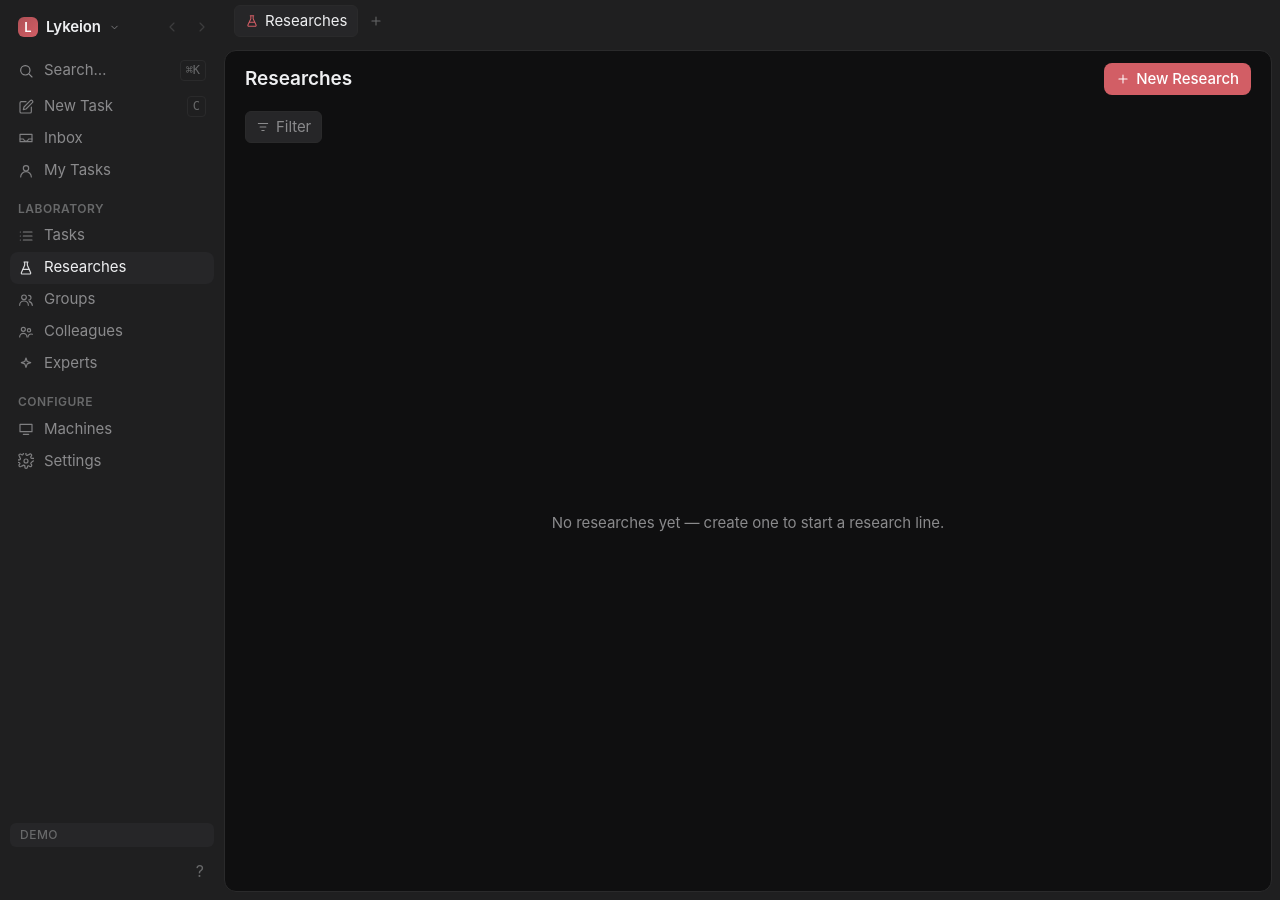
Scenario: account menu Settings navigates to the settings screen
The width and height of the screenshot is (1280, 900).
Click the button with aria-label "Workspace": [69, 27] box [10,10,128,44]
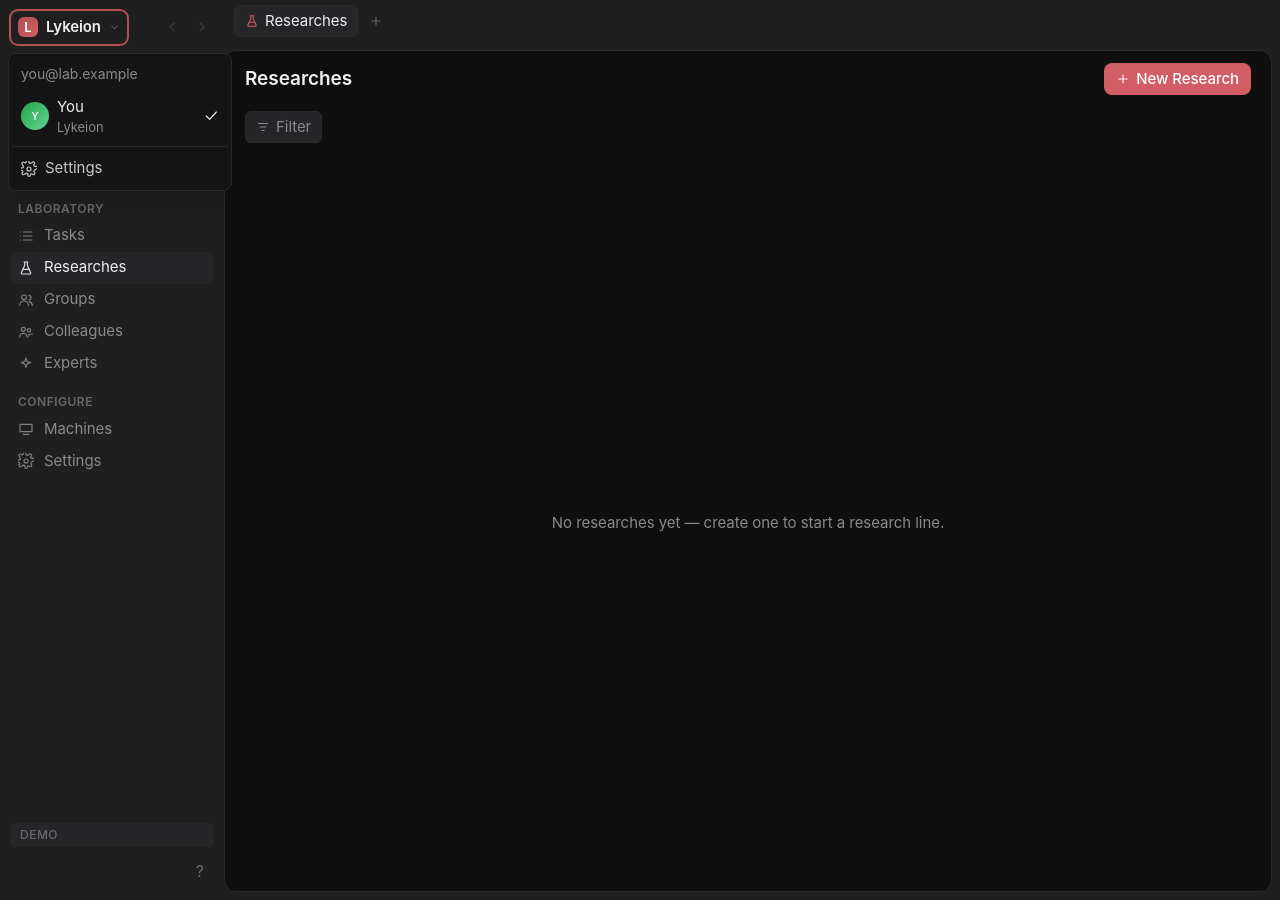
Click the menu item "Settings": [120, 169] box [13,152,227,186]
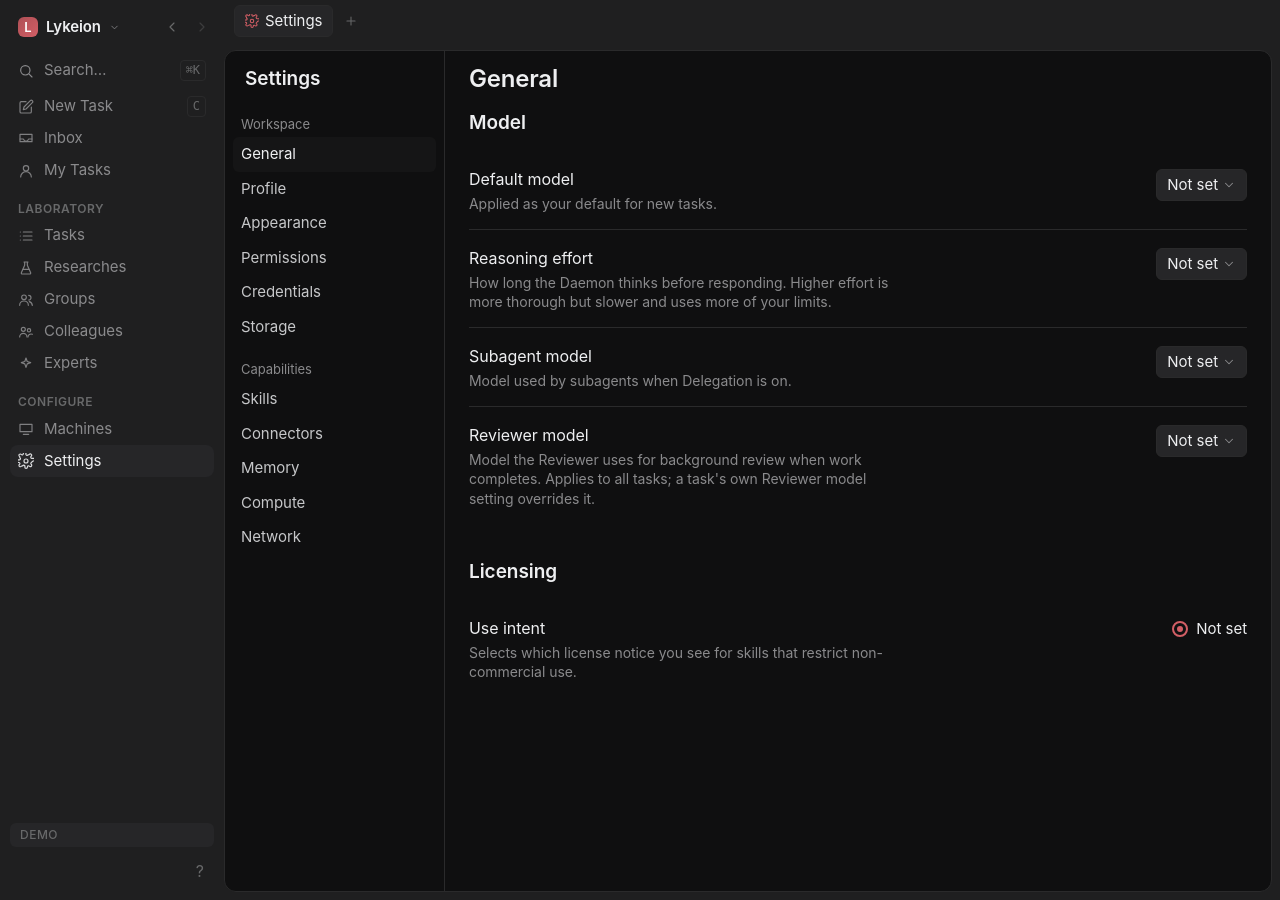
Now the text "Capabilities" is shown, box [241,361,312,377]
